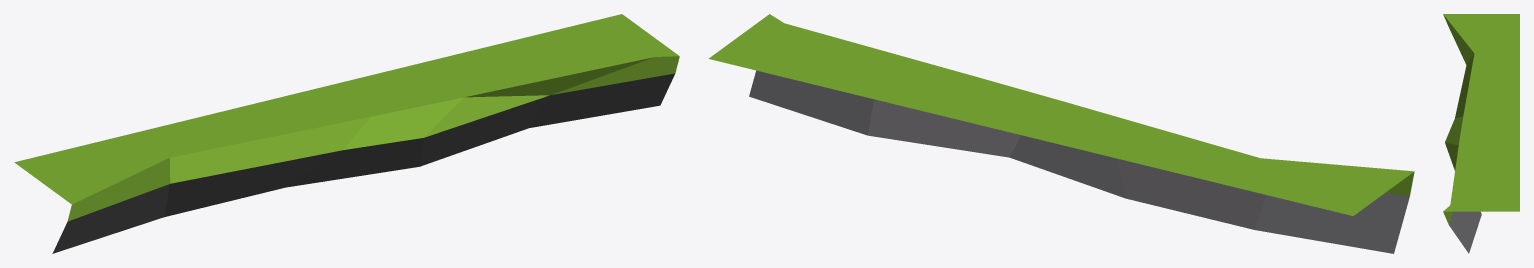
Rendered from mesh_nature_cliff_edge_03.fbx.
The picture shows the model from 3 angles, left to right: view 1: azimuth 30°, elevation 25°; view 2: azimuth 150°, elevation 25°; view 3: azimuth 270°, elevation 25°; orthographic projection. The views are drawn at different scales.
Parts seen in each view (by area): view 1: mesh_nature_cliff_edge_03; view 2: mesh_nature_cliff_edge_03; view 3: mesh_nature_cliff_edge_03.
Boxes of the visible parts, x1,y1,x2,y2 form: mesh_nature_cliff_edge_03: (14, 14, 679, 253); mesh_nature_cliff_edge_03: (708, 14, 1414, 253); mesh_nature_cliff_edge_03: (1443, 14, 1519, 253).
Bounding box in the file's own units: 200 × 20 × 32.91.
